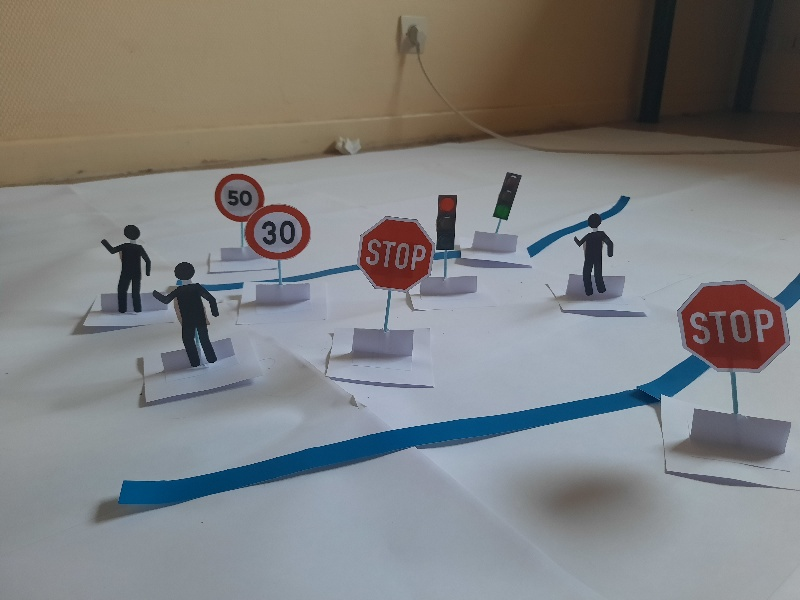Green: (490, 169, 519, 227)
Limit 30: (245, 205, 311, 260)
Limit 50: (214, 172, 264, 222)
Person: (152, 262, 221, 371), (100, 222, 153, 312), (575, 213, 616, 299)
Red: (434, 191, 462, 256)
Stop: (676, 281, 791, 376), (353, 214, 436, 298)
